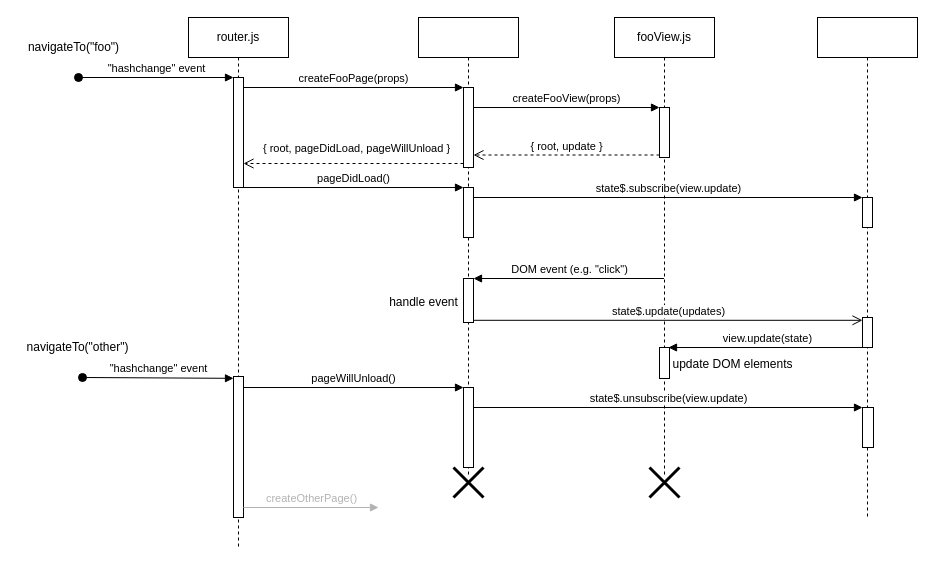
The diagram is 935 pixels wide and 565 high, and some of its shapes have lost their labels. The shapes that lost their labels are listed below. From the top down, each one's box as (x1, y1, x2, y2) in pixels, then its label:
(418, 16, 518, 478): fooPage.js
(816, 16, 918, 518): state.js
